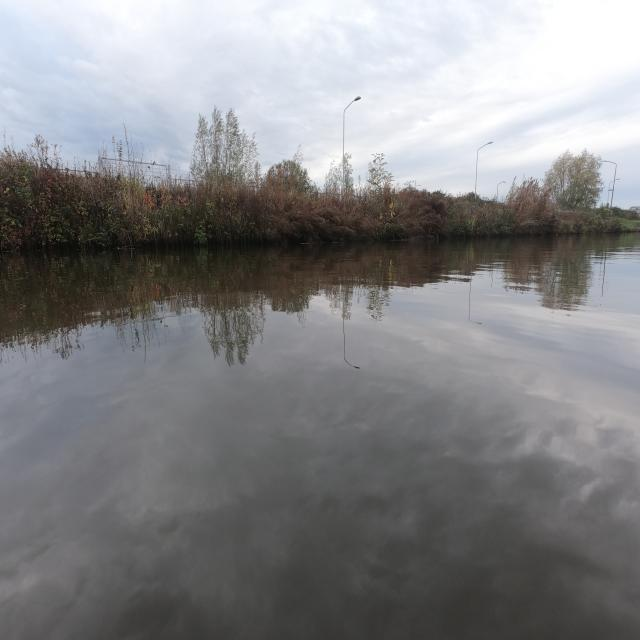reed: (0, 138, 621, 253)
sky: (1, 2, 639, 192)
water: (1, 234, 638, 639)
